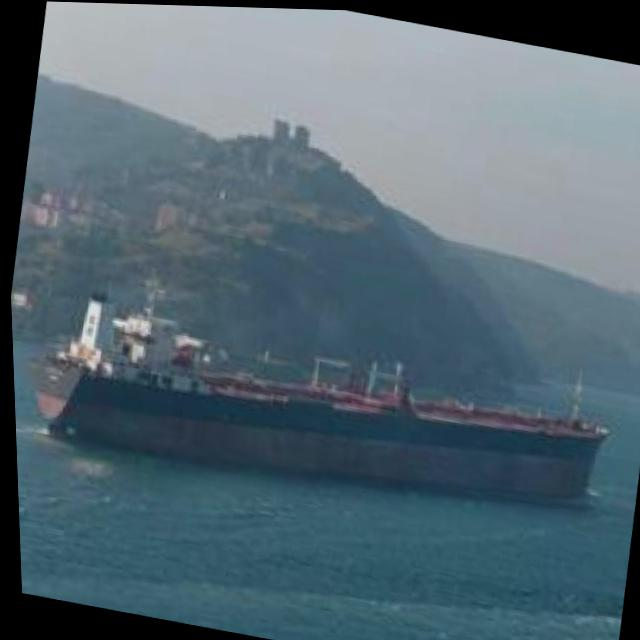ship2: (32, 266, 610, 503)
